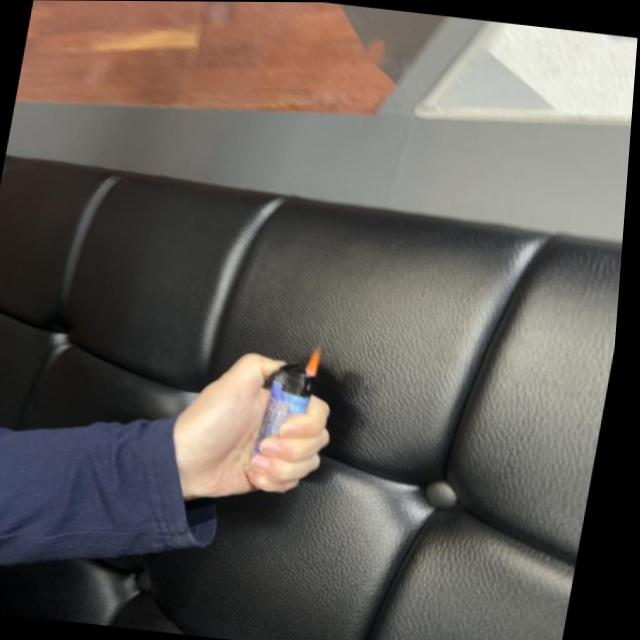Fire: (308, 345, 327, 372)
